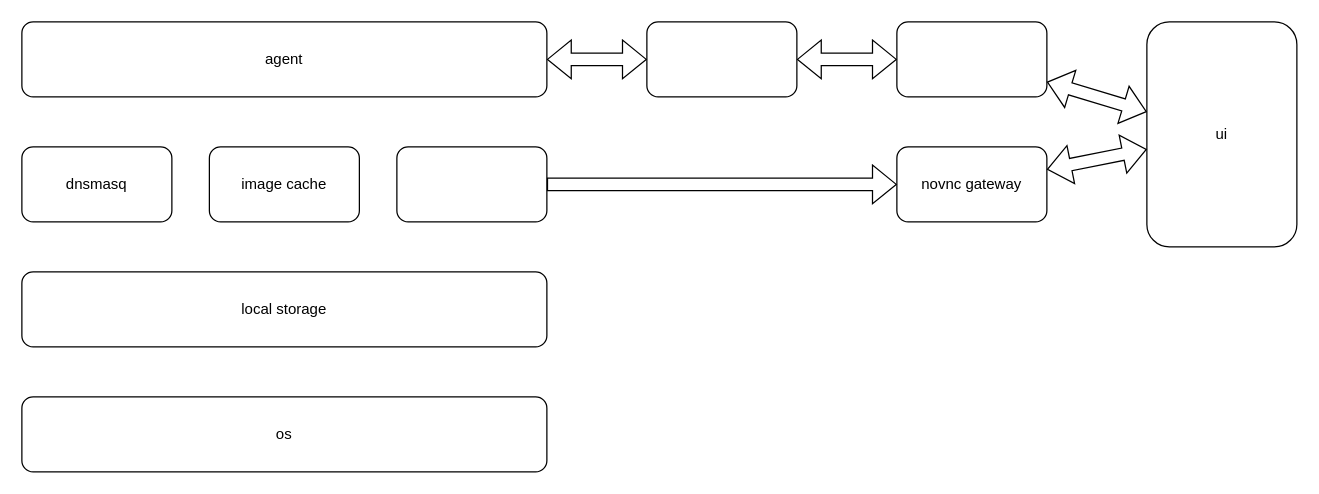
Image size: 1319x494. Some labels were removed from this diagram. The shapes that lost their labels are listed below. From the top down, each one's box as (x1, y1, x2, y2) in pixels, then its label:
(646, 21, 797, 97): xmpp message queue
(896, 21, 1047, 97): api
(396, 146, 547, 222): libvirt
